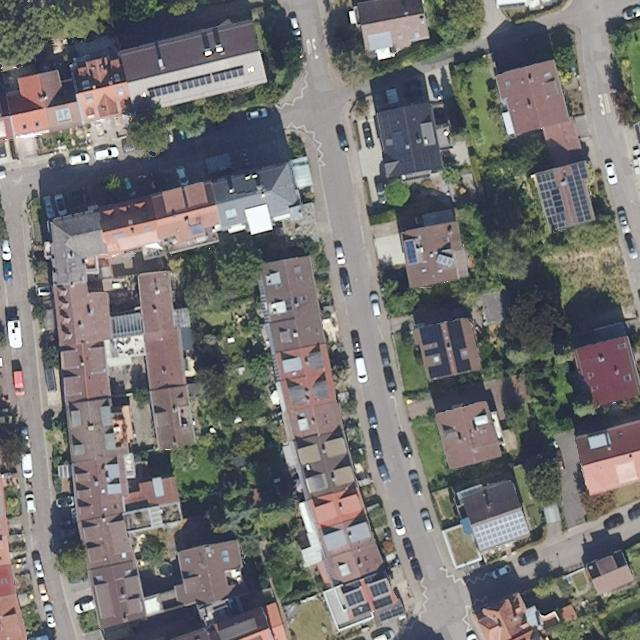PV: (147, 65, 246, 100), (471, 510, 531, 551), (533, 169, 570, 230), (565, 159, 593, 224), (368, 579, 390, 599), (432, 252, 457, 269), (344, 589, 365, 608), (405, 239, 419, 265), (55, 107, 72, 122), (192, 224, 203, 234)
